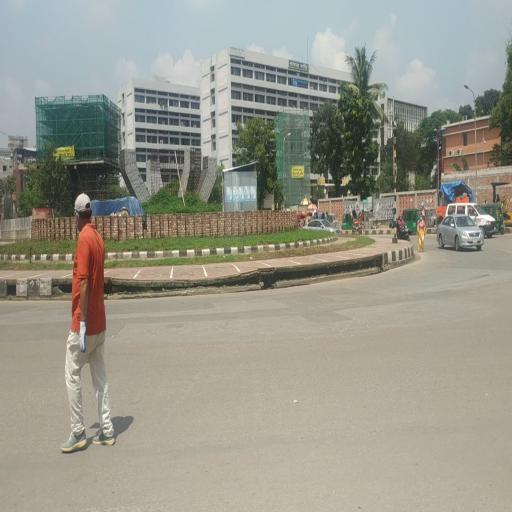car: (437, 216, 486, 255), (303, 220, 341, 233)
minivan: (474, 205, 497, 239)
motorbike: (397, 224, 412, 243)
rickshaw: (352, 210, 369, 238)
three wheelers (CNG): (497, 204, 506, 236), (408, 210, 419, 235), (365, 210, 376, 231), (342, 213, 352, 230)
